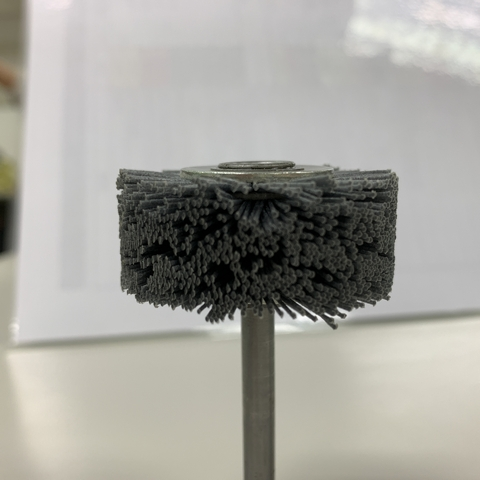Wheel Brush: (117, 146, 398, 465)
